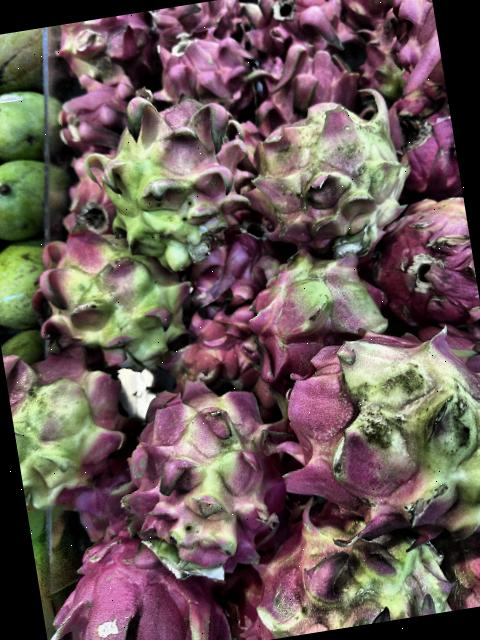buah-naga-belum-matang: (275, 314, 480, 554), (118, 371, 302, 603), (229, 83, 424, 258), (74, 79, 252, 267), (239, 503, 464, 640), (18, 213, 205, 377), (1, 325, 140, 516), (239, 235, 396, 387), (373, 187, 480, 335), (50, 10, 164, 91)
buah-naga-matang: (249, 30, 366, 133), (149, 24, 264, 128), (385, 85, 462, 203), (361, 0, 445, 95), (236, 0, 351, 65), (45, 70, 140, 148)
